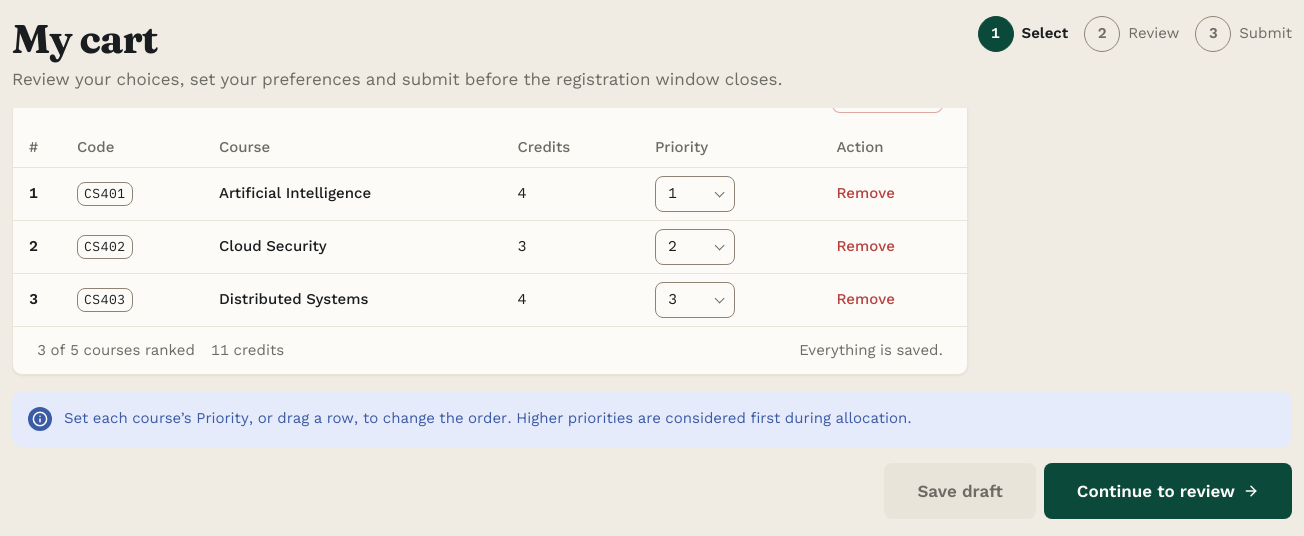
Scenario: CartPage › removes a course and reports the unsaved change until the draft is saved
Expected: the heading "Selected courses (3)" is shown, [37,83,272,107]
Expected: the text "Everything is saved." is shown, [799,339,943,362]
Click the button named "Remove Cloud Security".
click(866, 247)  # box [836,236,895,258]
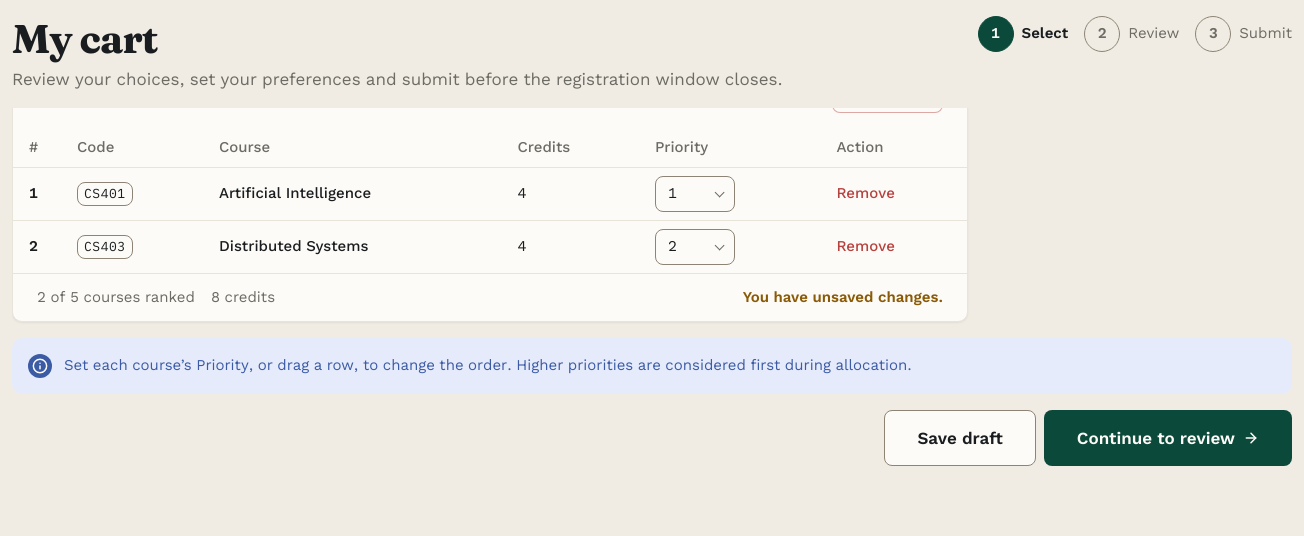
Now the text "You have unsaved changes." is shown, box [743,286,943,309]
Click the button "Save draft".
click(960, 438)  # box [884,410,1036,466]
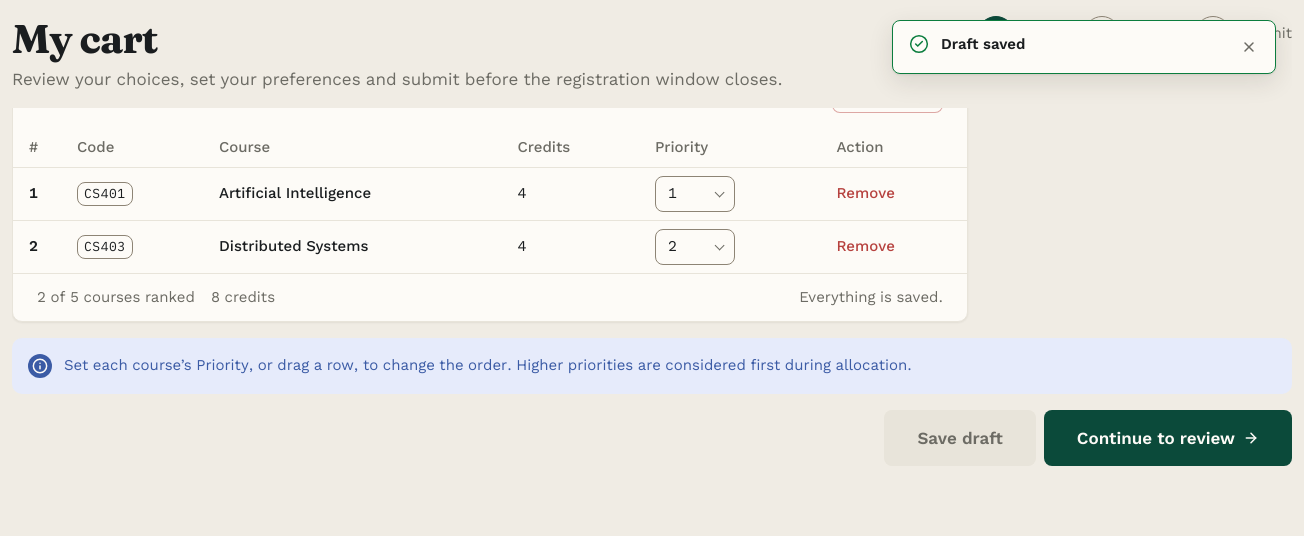
Now the text "Everything is saved." is shown, box [799,286,943,309]
